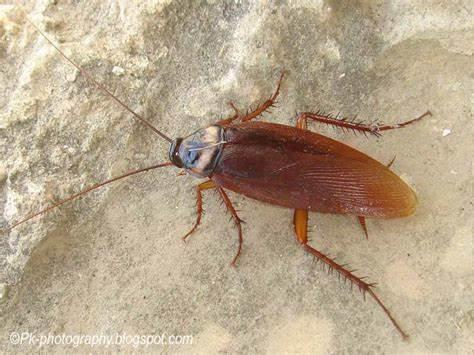cockroach: (163, 99, 422, 259)
